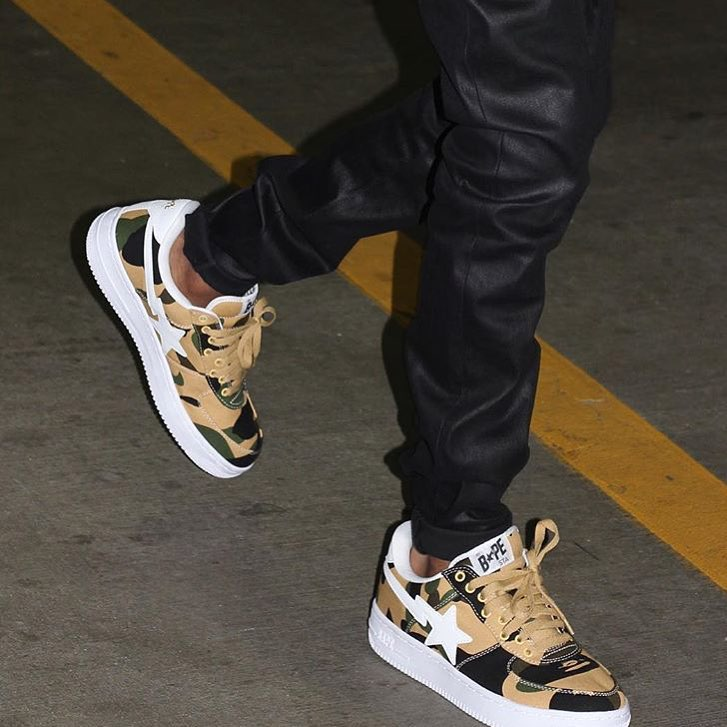sneaker: (59, 176, 301, 505), (338, 477, 648, 727)
